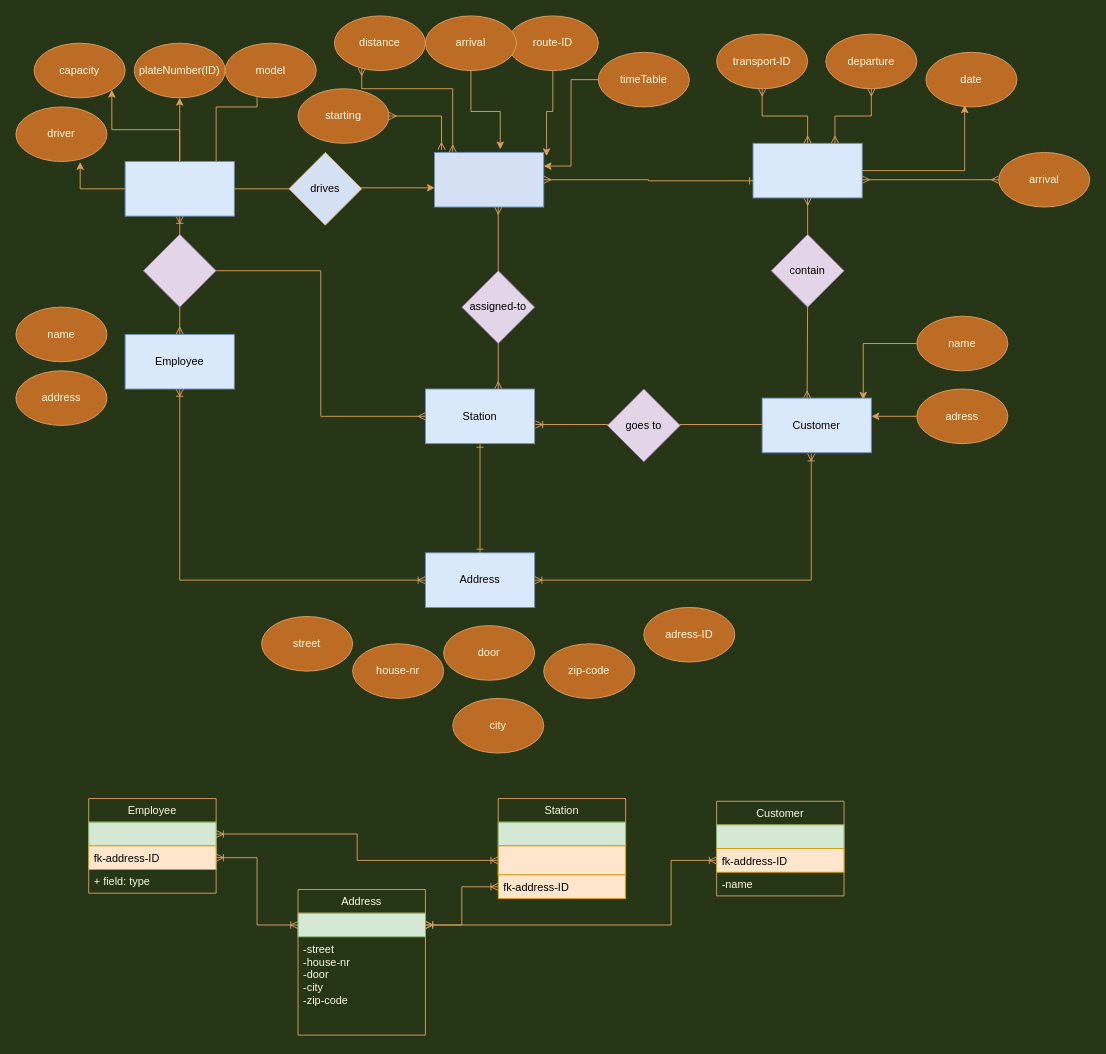
Image size: 1106x1054. Some labels were removed from this diagram. Here are the shapes that lost their labels. From the top down, the centre of each, then its label:
At (179,188): "Bus".
At (489,179): "Routes".
At (807,170): "Transport".
At (179,270): "works at".
At (152,833): "PK-Employy ID".
At (561,833): "PK-station-ID".
At (780,836): "PK-customer-ID".
At (561,860): "fk-employee-ID".
At (361,924): "PK-address-ID".
